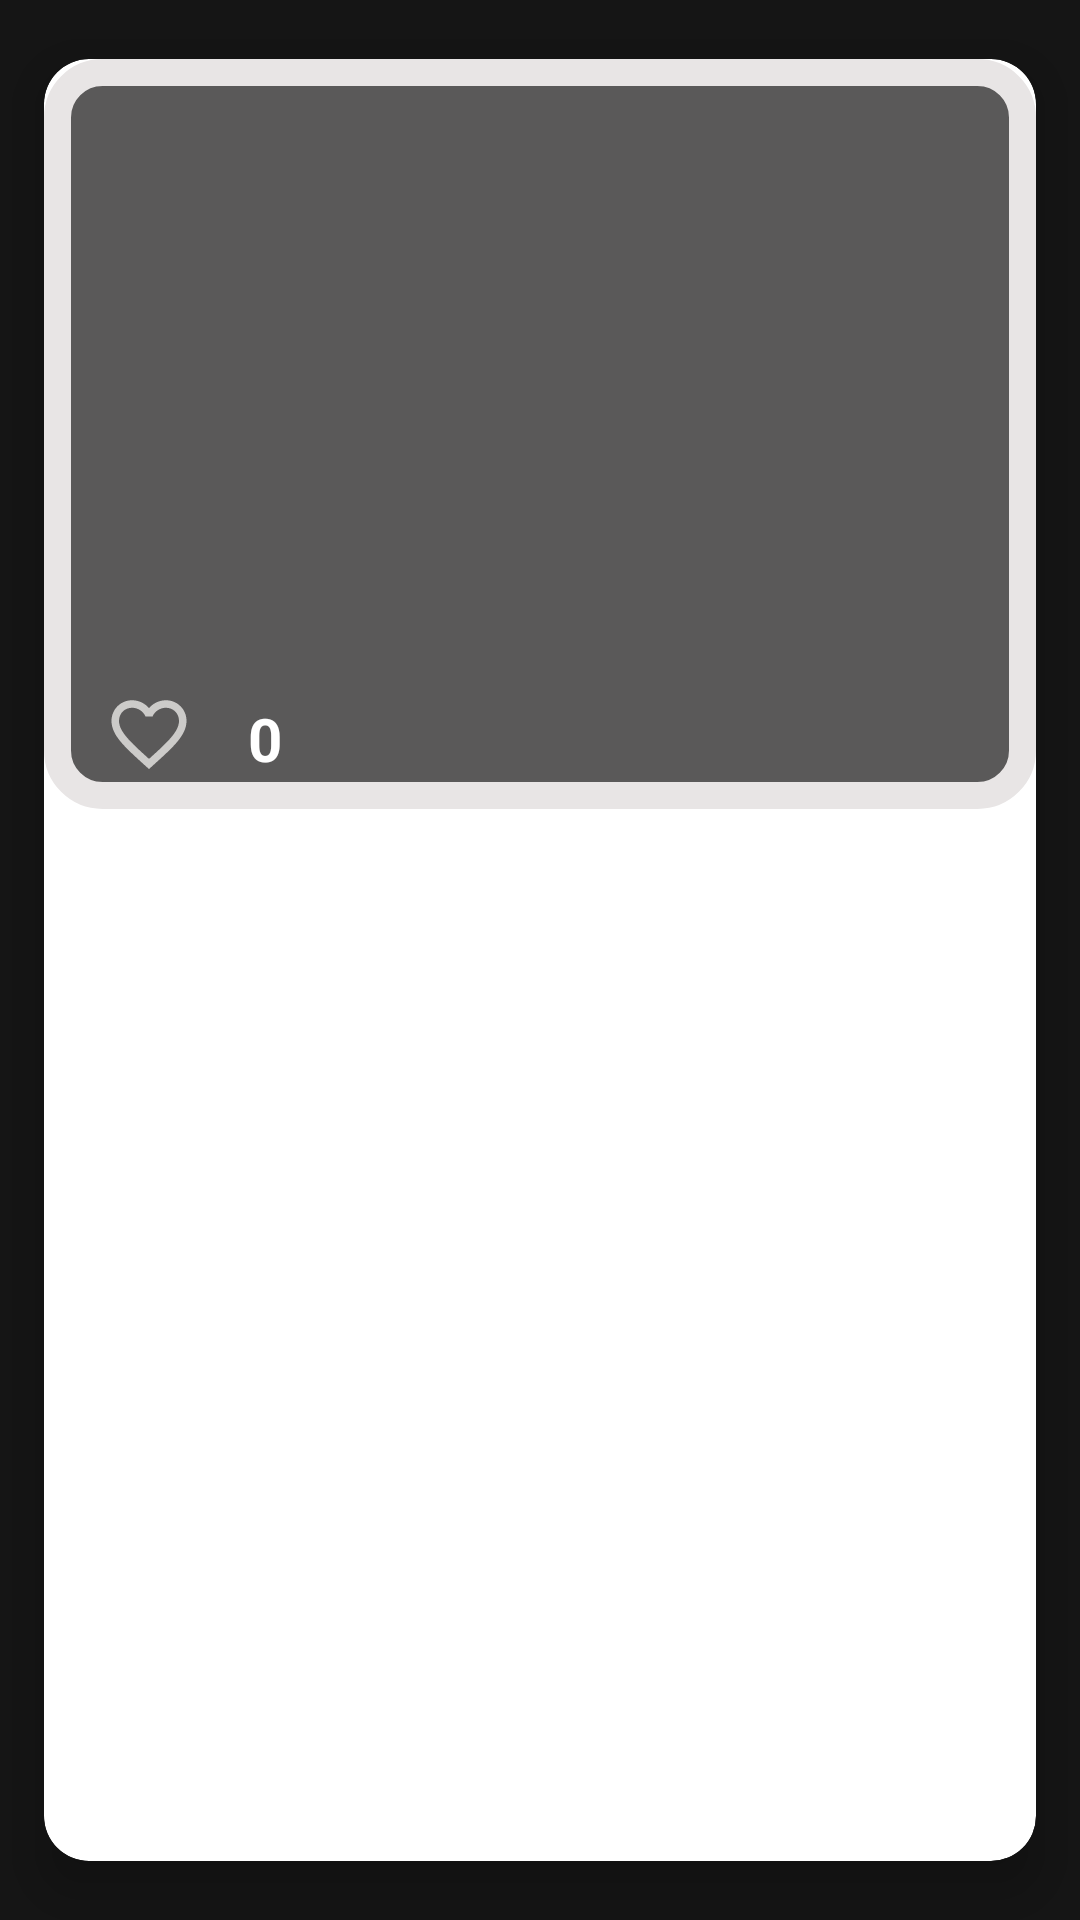

Point at icon controls on the screen. Image size 1080×1920, points as (x=x, y=y).
favorite border: (x=149, y=734)
